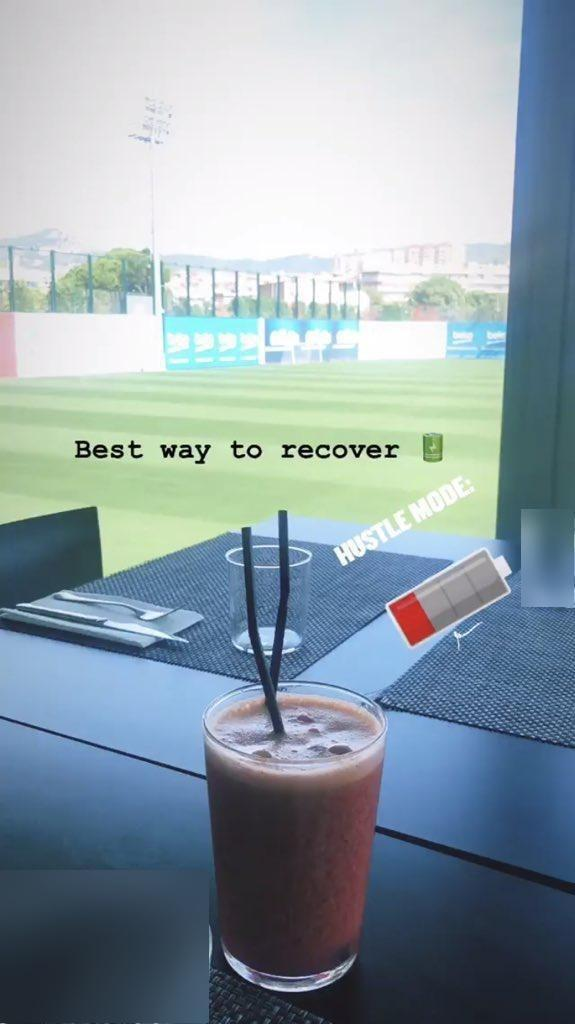glass-normal: (195, 678, 389, 995), (222, 540, 314, 657)
